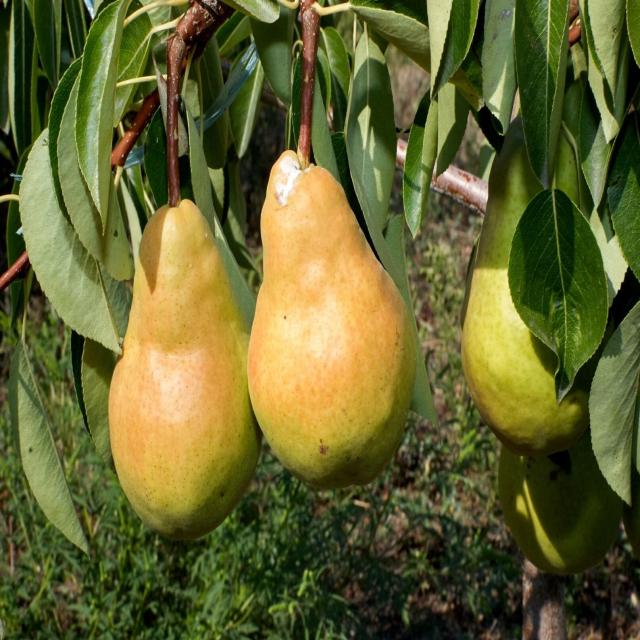pear: (106, 148, 420, 541), (106, 196, 262, 542)
